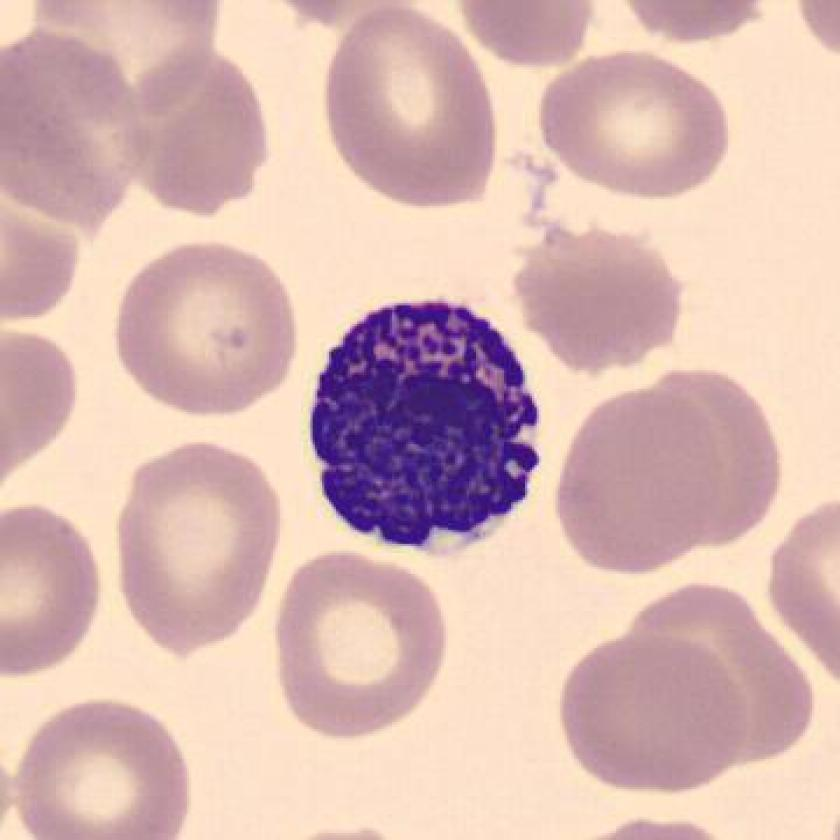basophil: (300, 290, 545, 559)
